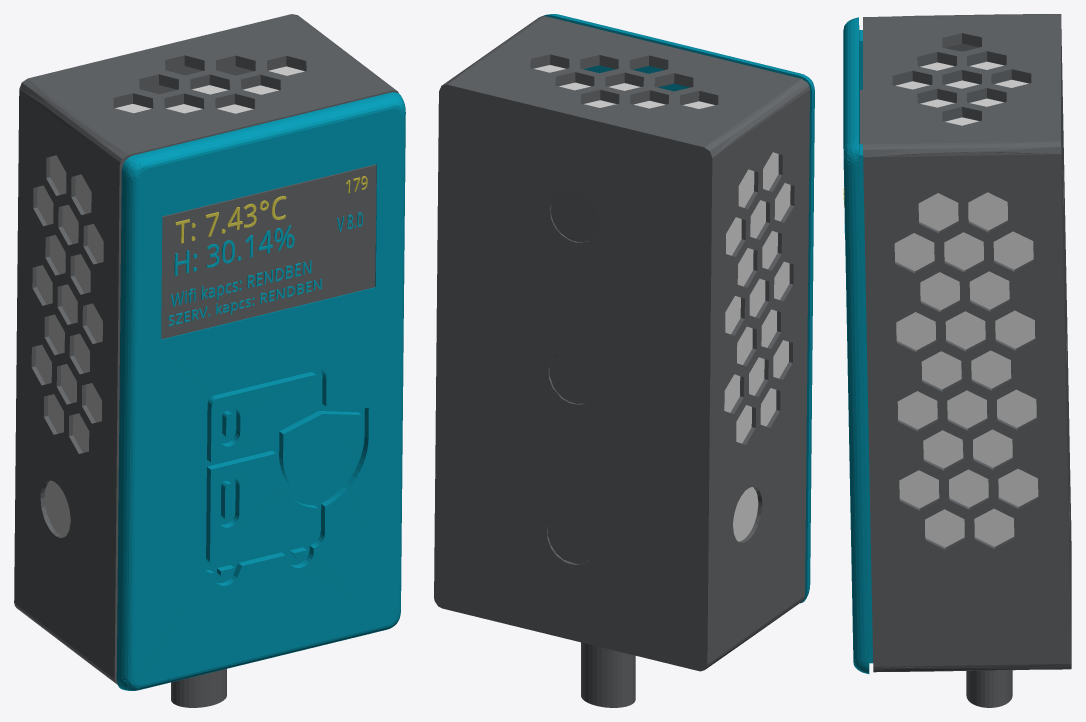
File: fekete_kek.glb
The picture shows the model from 3 angles, left to right: view 1: azimuth 30°, elevation 25°; view 2: azimuth 150°, elevation 25°; view 3: azimuth 270°, elevation 25°; orthographic projection. The views are drawn at different scales.
Visible parts, largest first — view 1: Mesh_Mesh_head_geo.001_lambert2SG.001; view 2: Mesh_Mesh_head_geo.001_lambert2SG.001; view 3: Mesh_Mesh_head_geo.001_lambert2SG.001.
Part boxes in pixels (box(x1,y1,x2,y2)): Mesh_Mesh_head_geo.001_lambert2SG.001: box(14, 14, 405, 707); Mesh_Mesh_head_geo.001_lambert2SG.001: box(434, 14, 814, 707); Mesh_Mesh_head_geo.001_lambert2SG.001: box(843, 14, 1071, 707).
Bounding box in the file's own units: 33 × 70.15 × 23.52.
